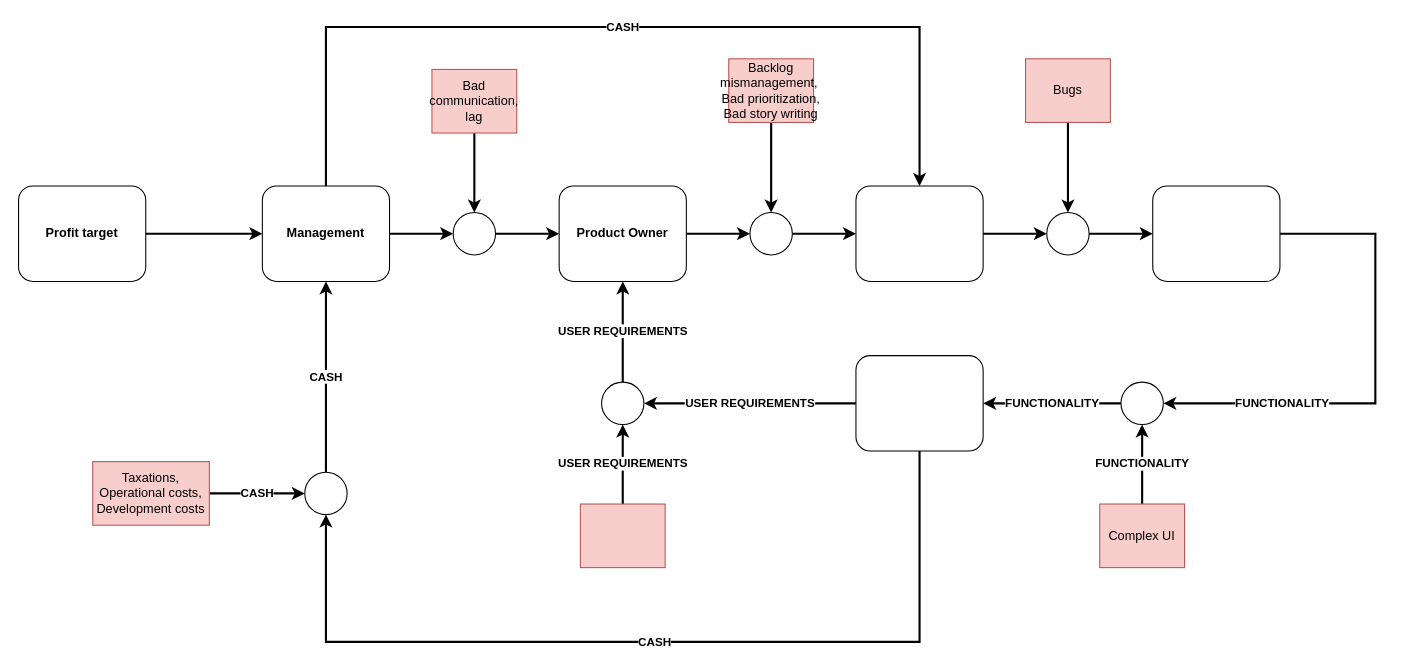
This 1403x669 diagram has some shape labels left out. The shapes that lost their labels are listed below. From the top down, each one's centre as x and y in pixels, then its label:
point (919, 233): Developers
point (1216, 233): Operations
point (919, 403): Users
point (622, 535): Miscommunication, Bad requirements gathering
